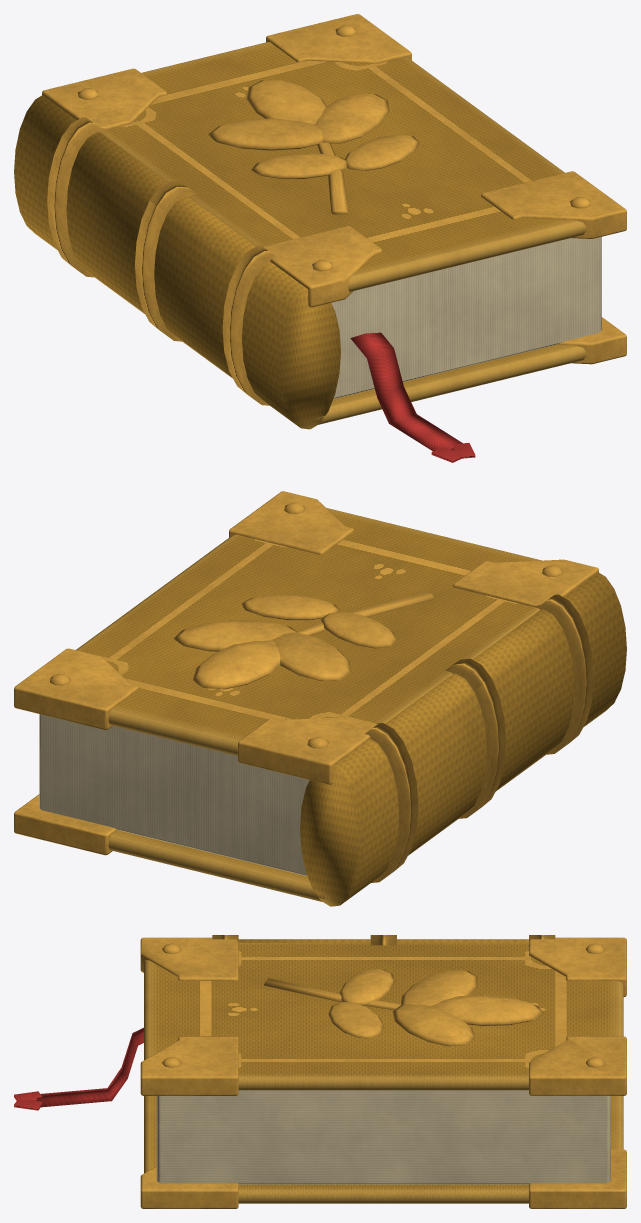
Rendered from book_mustard.glb.
3 renders of one model, top to bottom at view 1: azimuth 30°, elevation 25°; view 2: azimuth 150°, elevation 25°; view 3: azimuth 270°, elevation 25°, orthographic. The views are drawn at different scales.
Parts seen in each view (by area): view 1: model; view 2: model; view 3: model.
Part boxes in pixels (box(x1,y1,x2,y2)): model: box(14, 14, 626, 462); model: box(14, 491, 626, 906); model: box(14, 935, 626, 1208).
Size of the model in its own units: 0.1718 by 0.0732 by 0.2874.
5 materials, 5 textured.
